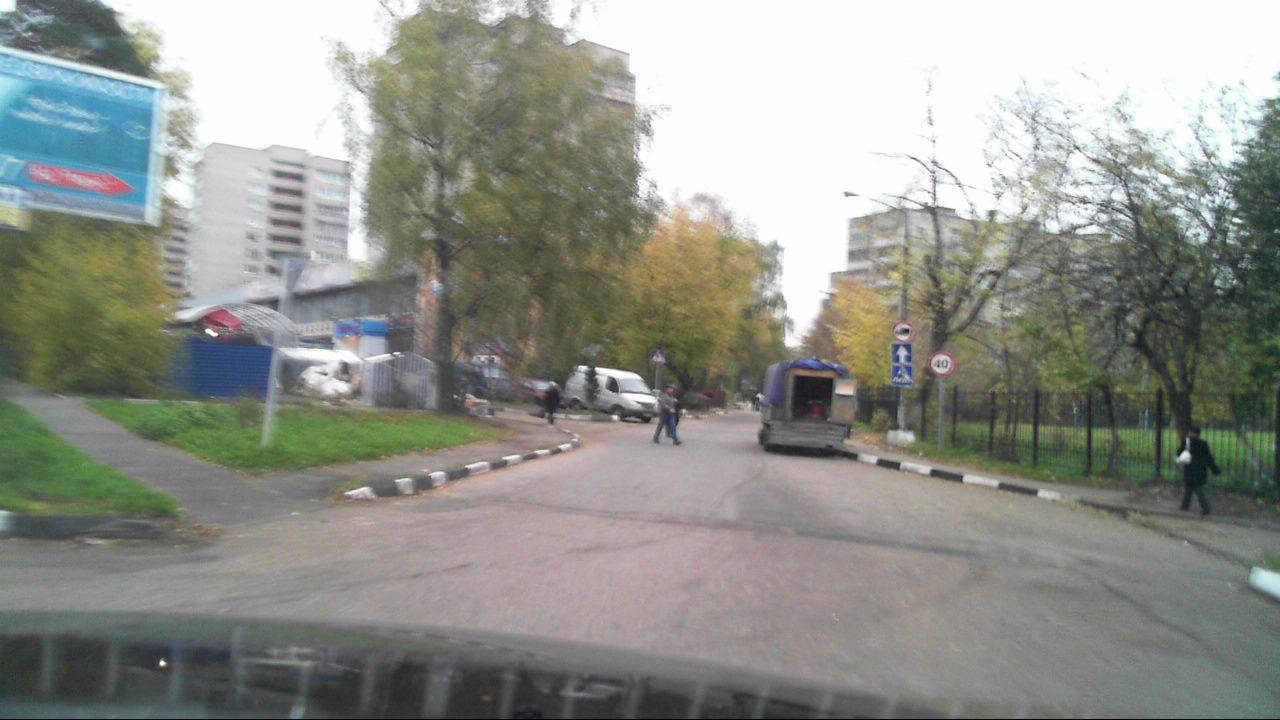3_24: (930, 349, 953, 378)
3_4: (891, 322, 913, 343)
5_19_1: (891, 364, 914, 385)
5_19_2: (651, 349, 666, 364)
5_5: (891, 344, 912, 364)
